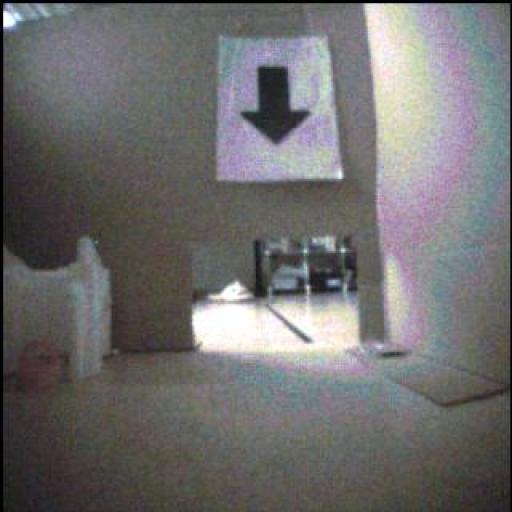arrow: (243, 68, 312, 145)
